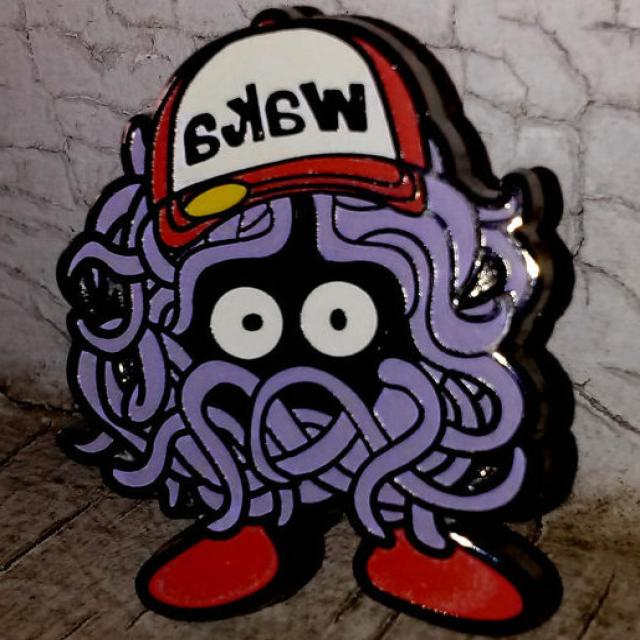Tangela: (57, 132, 588, 640)
